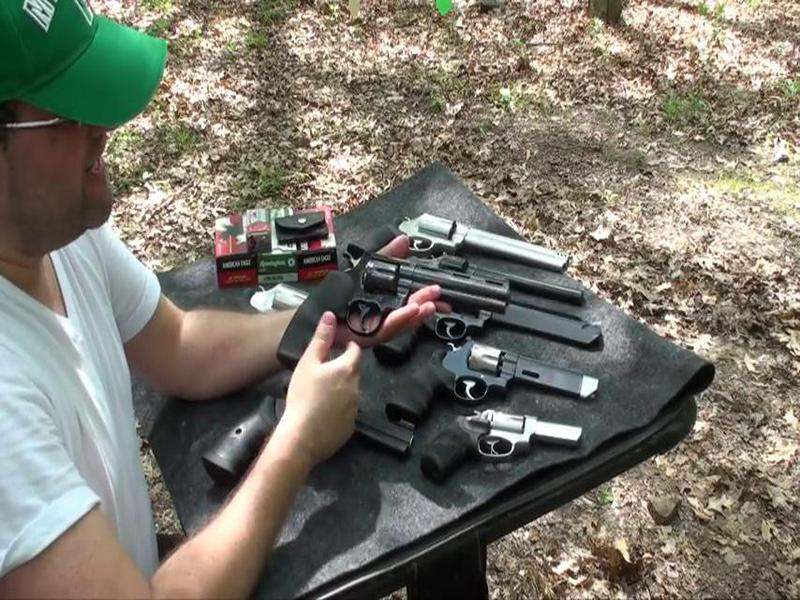Revolver: (269, 234, 512, 380)
